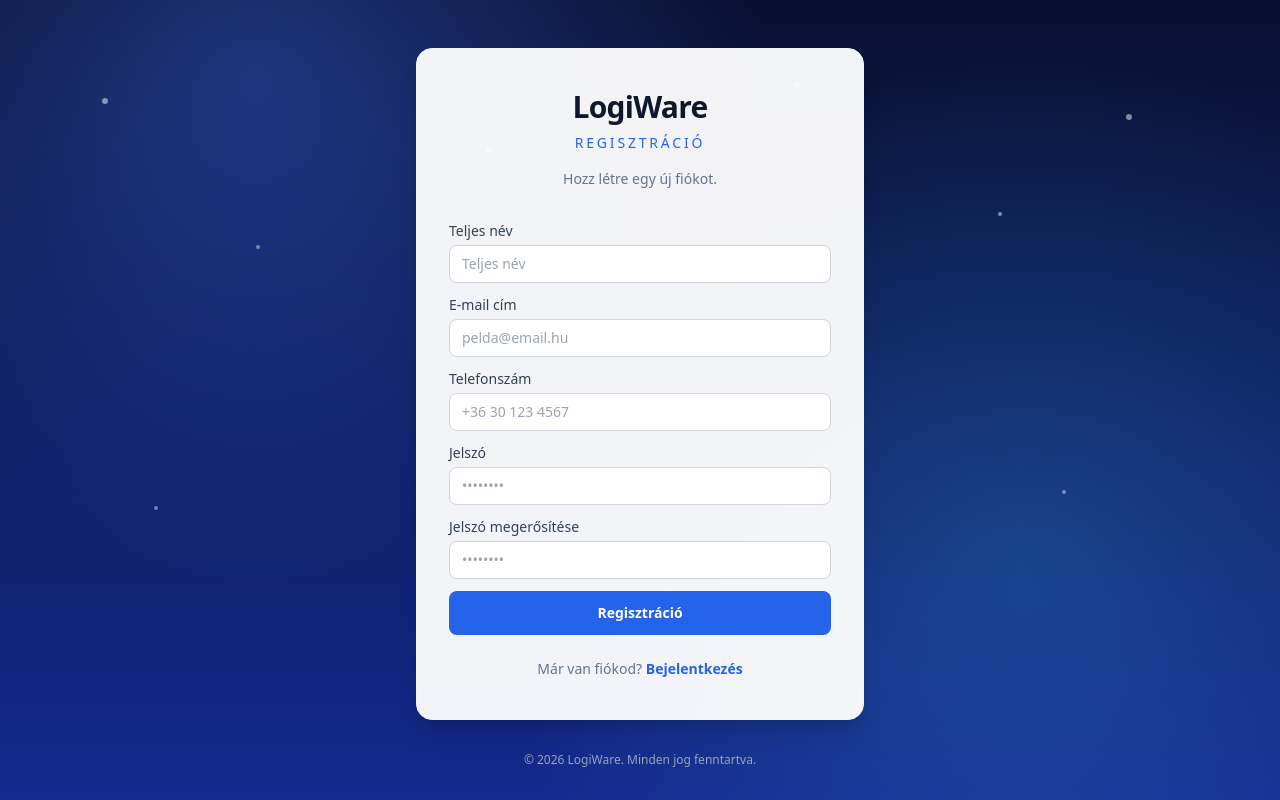
shows password mismatch error
The width and height of the screenshot is (1280, 800).
In the field labelled "Teljes név": (640, 264) x1=449 y1=245 x2=831 y2=283, type "Teszt Elek"
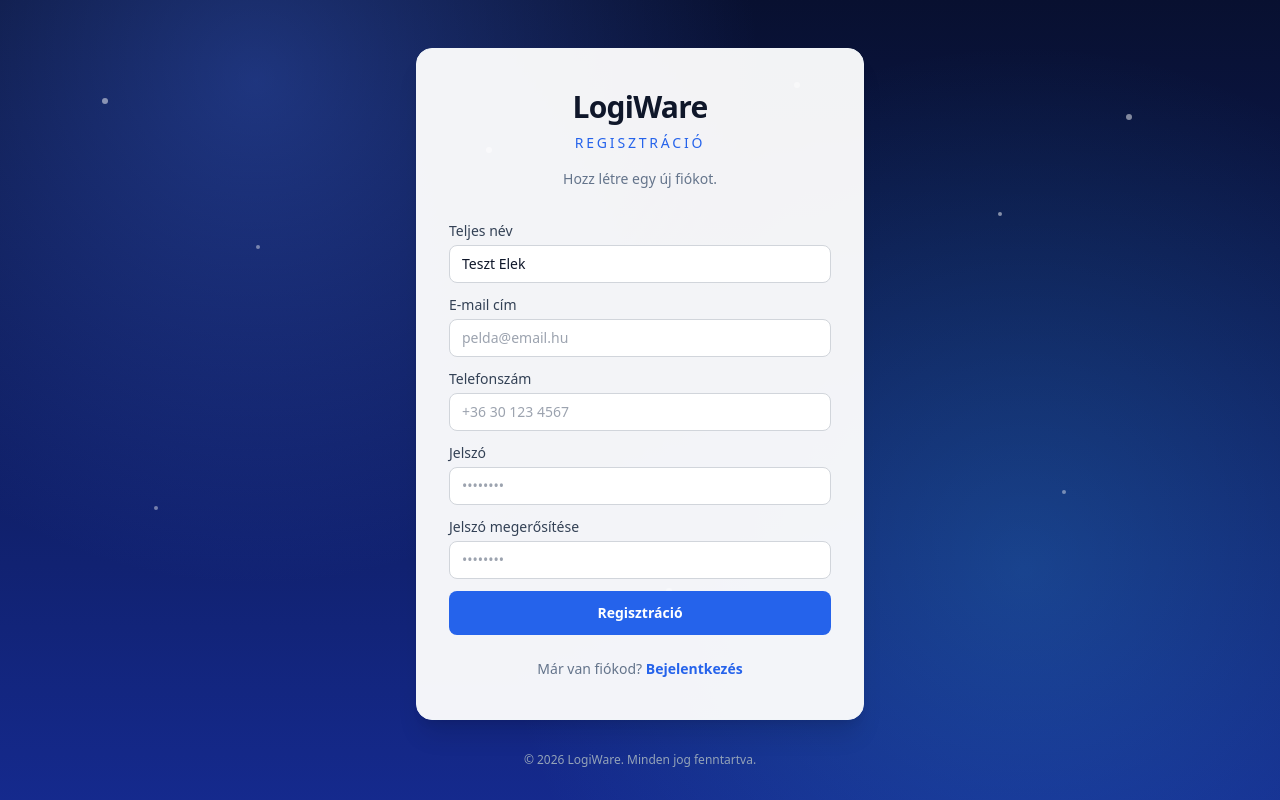
In the field labelled "E-mail cím": (640, 338) x1=449 y1=319 x2=831 y2=357, type "test@example.com"
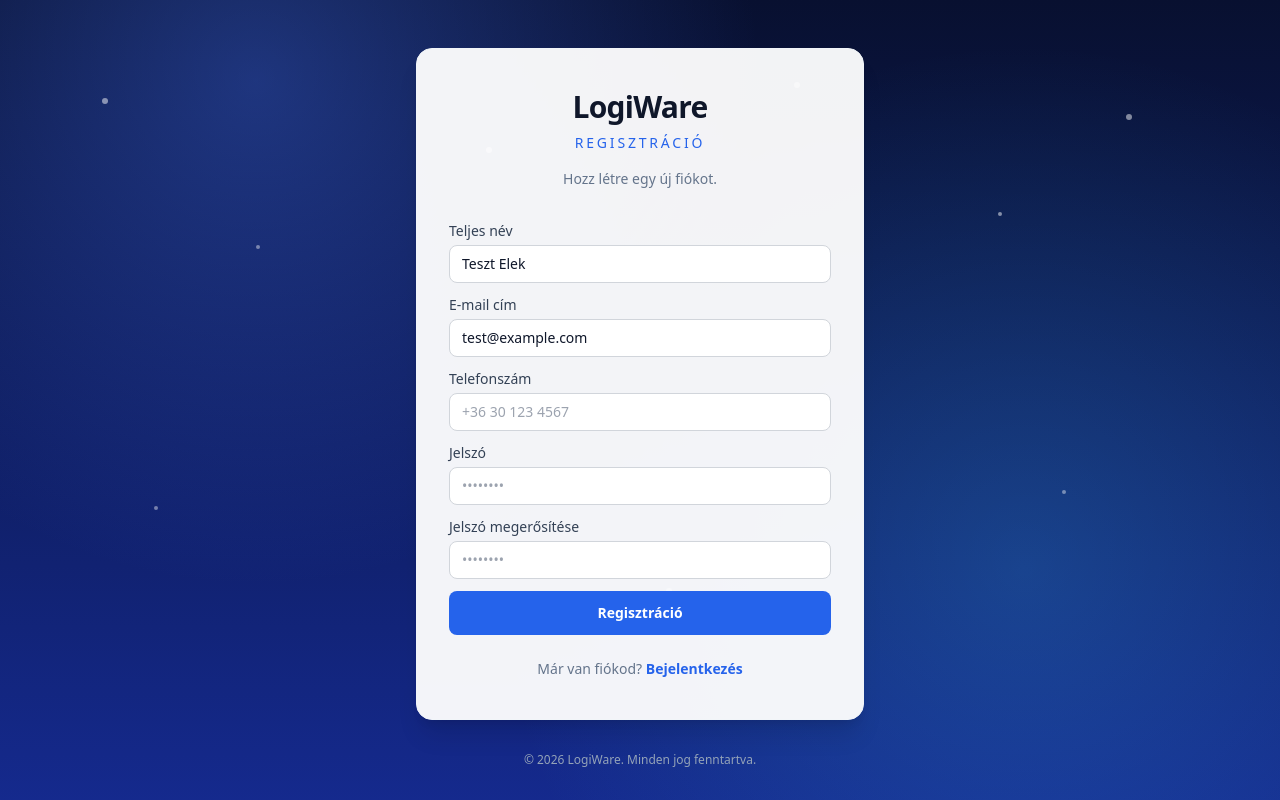
In the field labelled "Telefonszám": (640, 412) x1=449 y1=393 x2=831 y2=431, type "+36301234567"
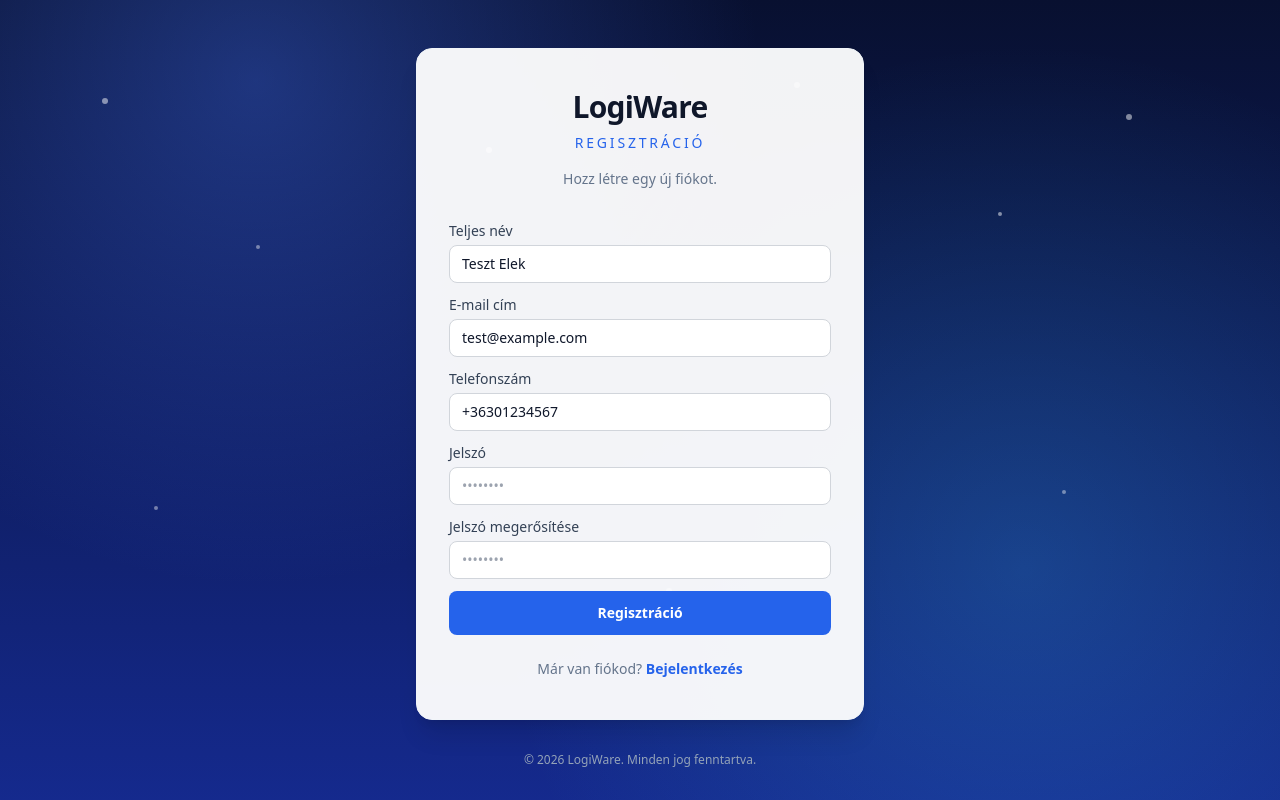
In the password field labelled "Jelszó": (640, 486) x1=449 y1=467 x2=831 y2=505, type "pass123"
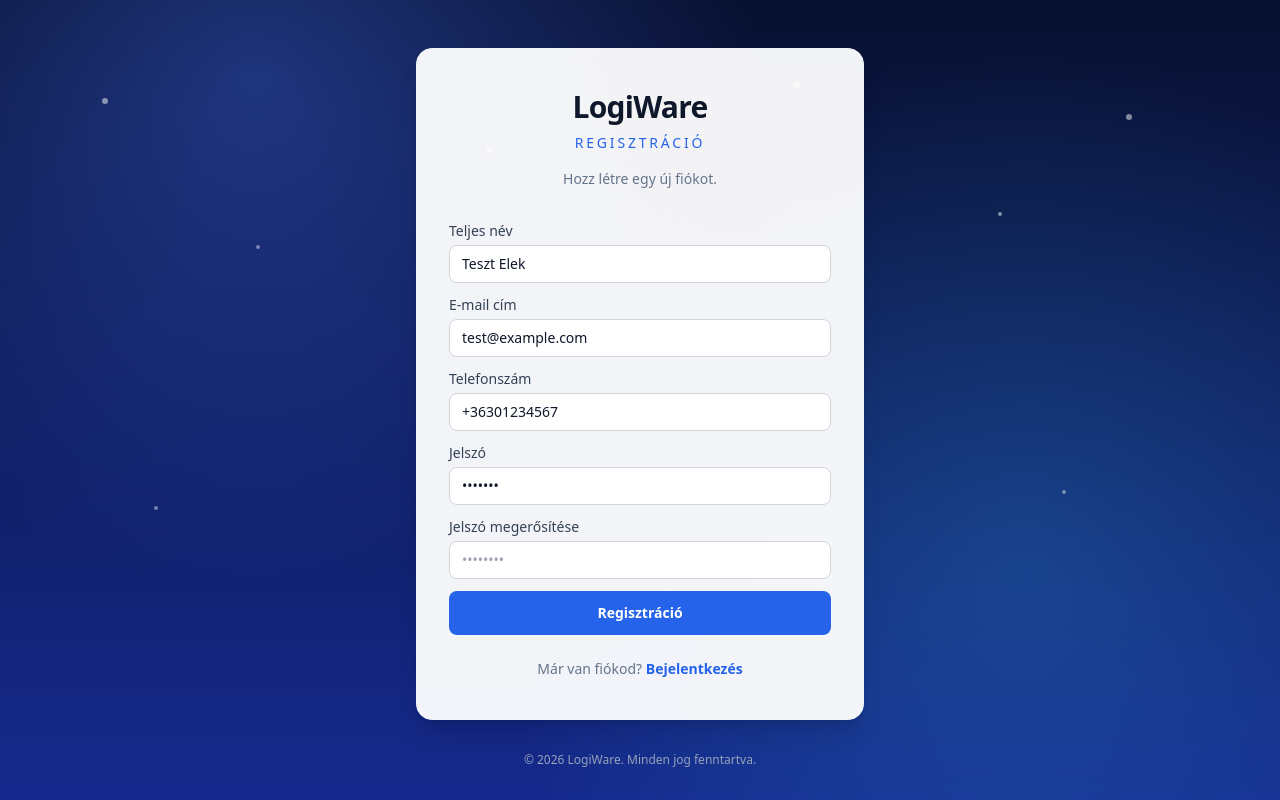
In the password field labelled "Jelszó megerősítése": (640, 560) x1=449 y1=541 x2=831 y2=579, type "different"
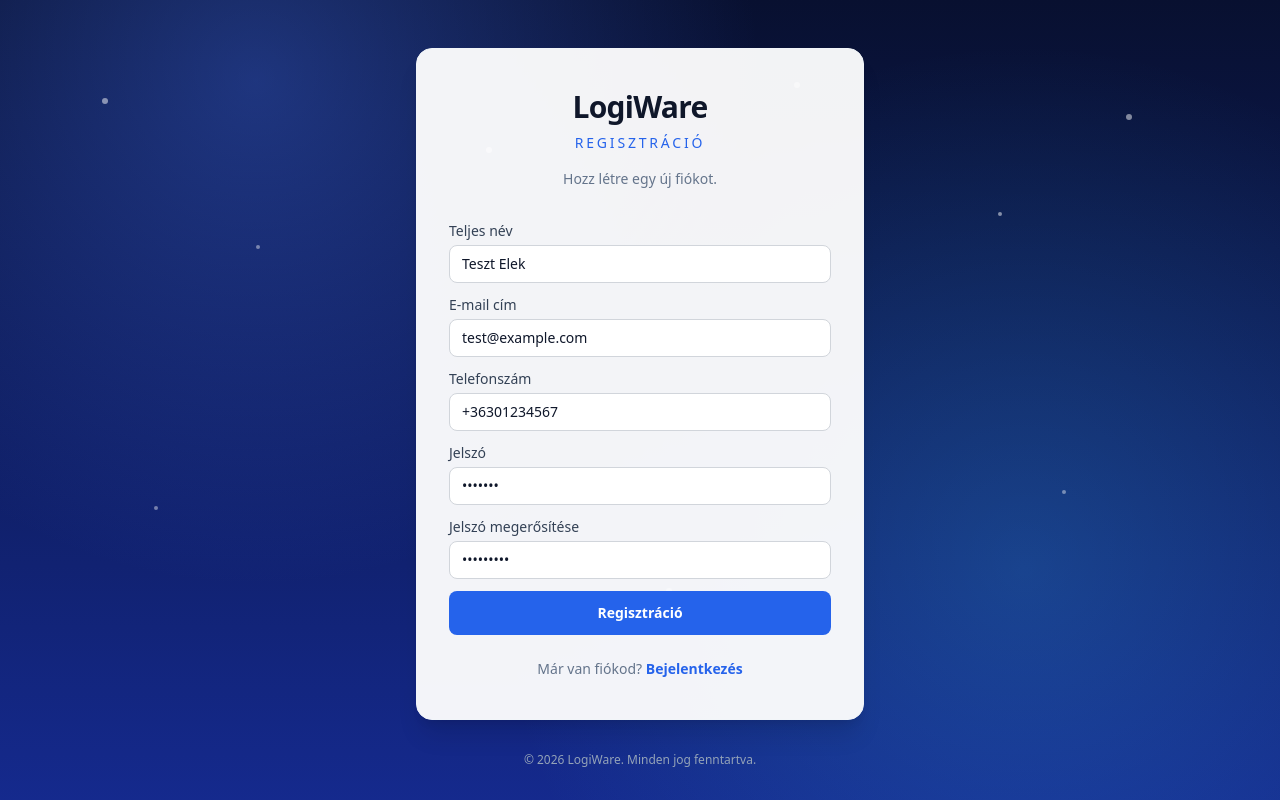
Submit the form, box x1=449 y1=221 x2=831 y2=635
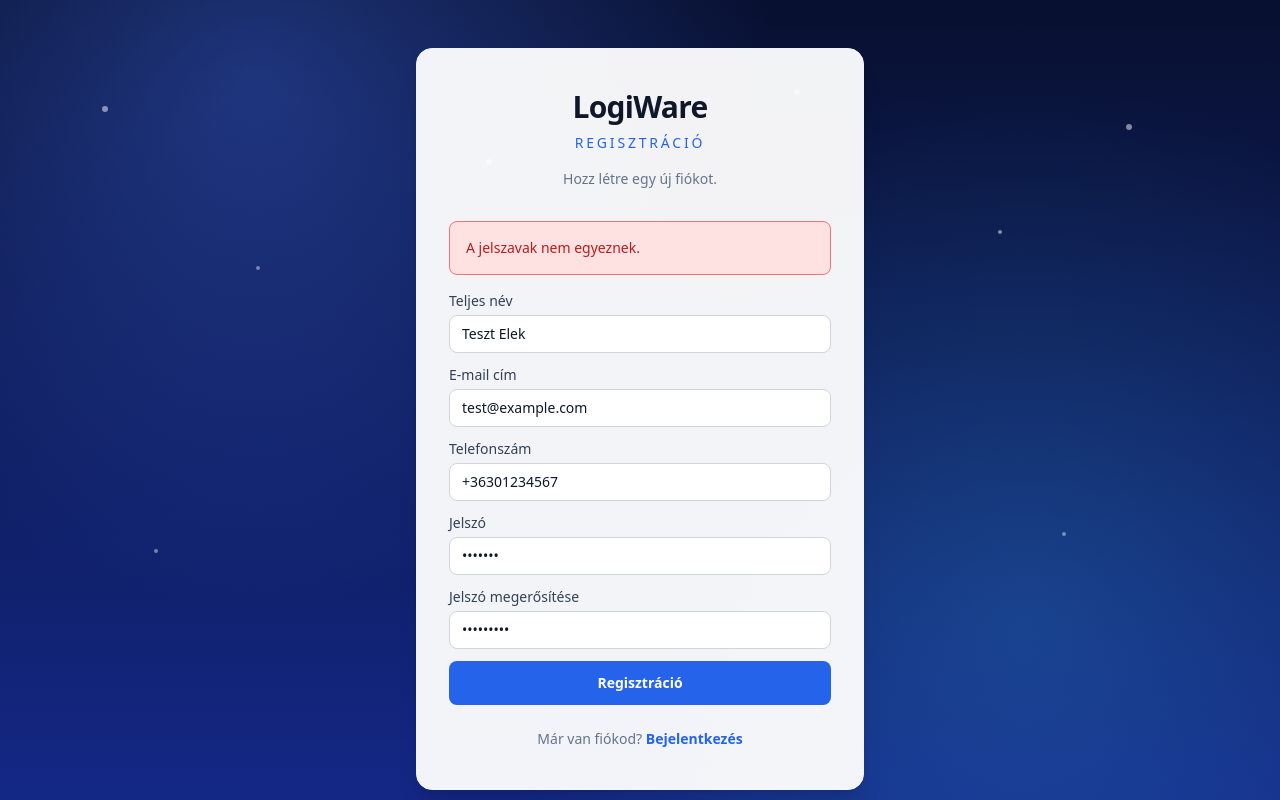
Expected: the text "A jelszavak nem egyeznek." is shown, x1=449 y1=221 x2=831 y2=275
